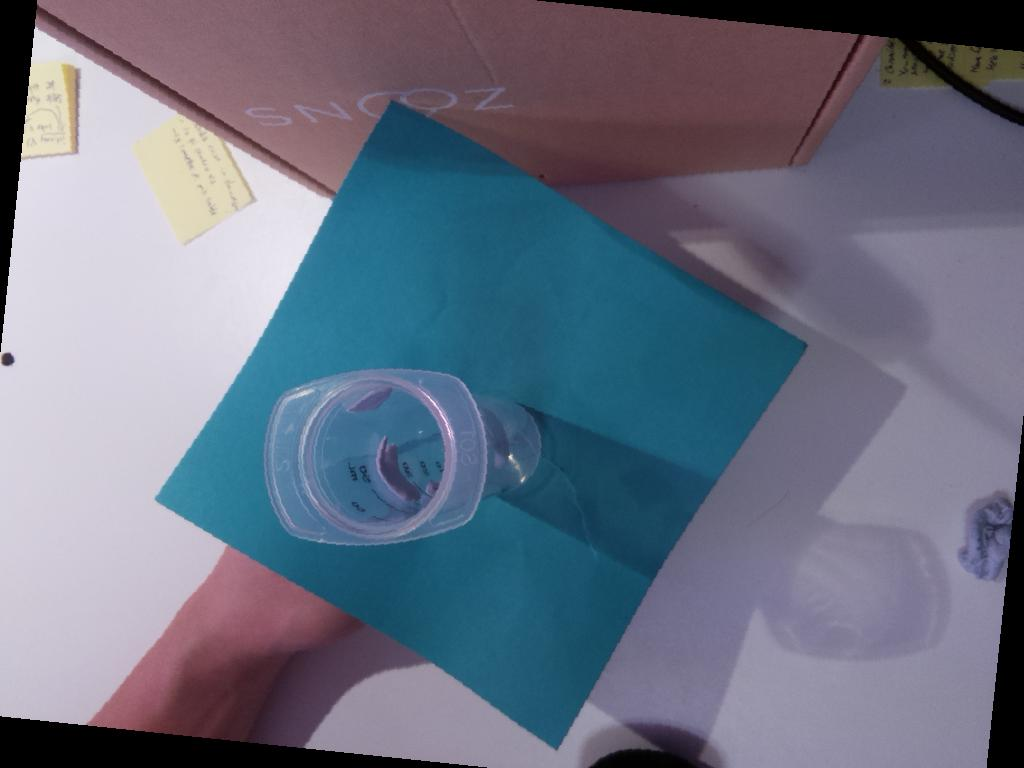dirty: (263, 366, 489, 545)
